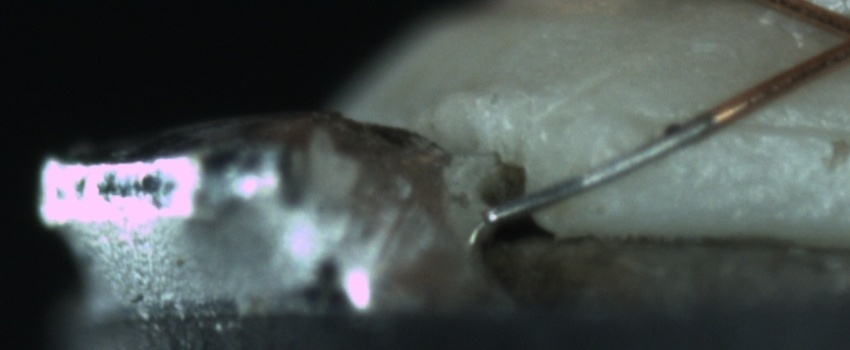DL: (673, 96, 849, 157)
TS: (488, 114, 719, 224)
